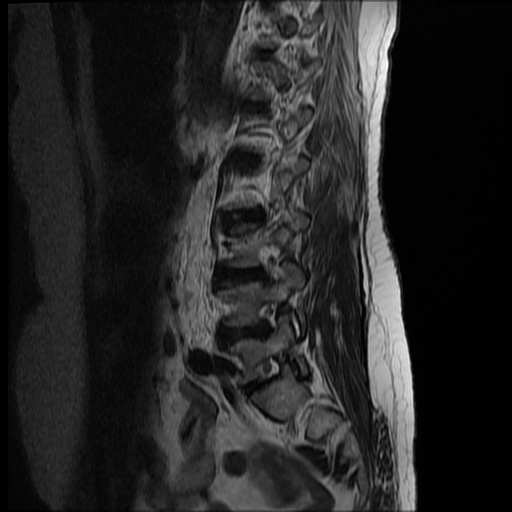LFS0: (245, 295, 284, 342)
